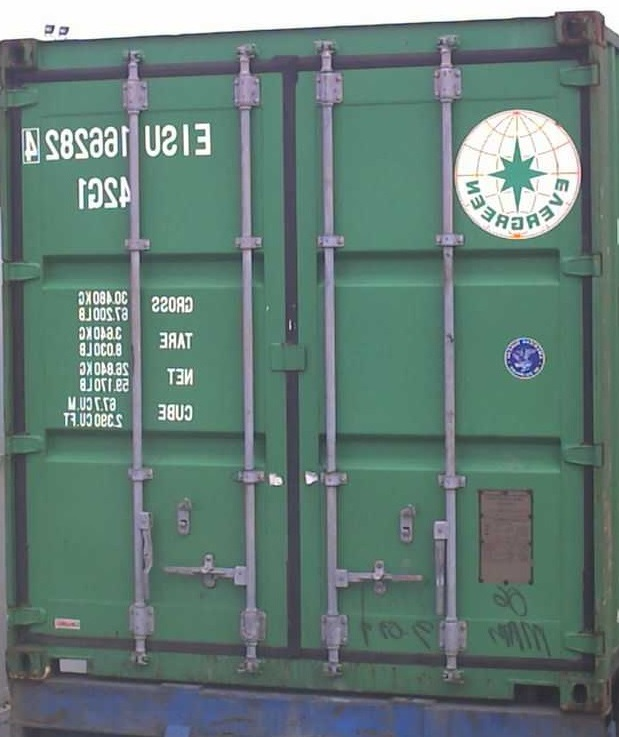container_door: (10, 7, 603, 680)
